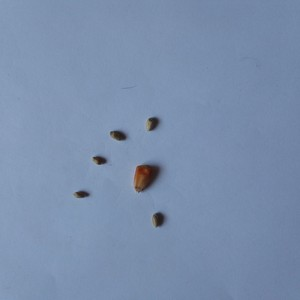maiz: (132, 162, 158, 194)
trigo: (107, 127, 129, 143), (144, 114, 161, 133), (150, 210, 165, 230), (90, 153, 110, 165), (73, 188, 91, 201)
